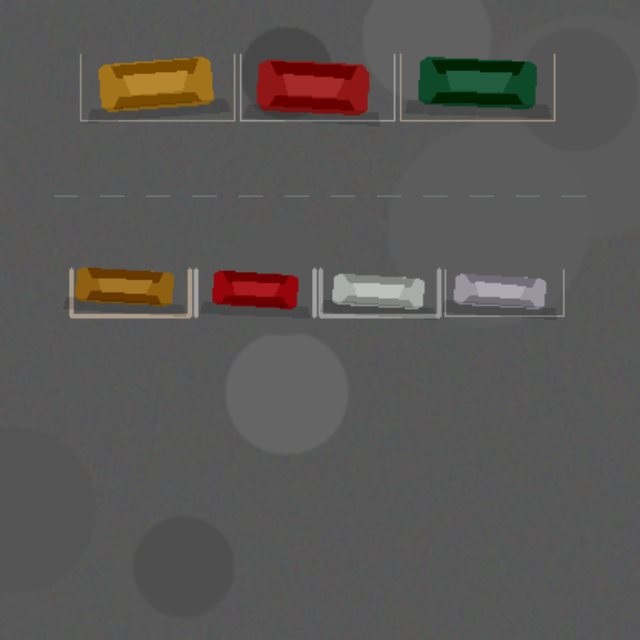space-occupied: (80, 54, 234, 120), (240, 54, 394, 120), (400, 54, 554, 120), (195, 269, 314, 315), (71, 269, 189, 315), (320, 269, 438, 315), (445, 269, 563, 315)
